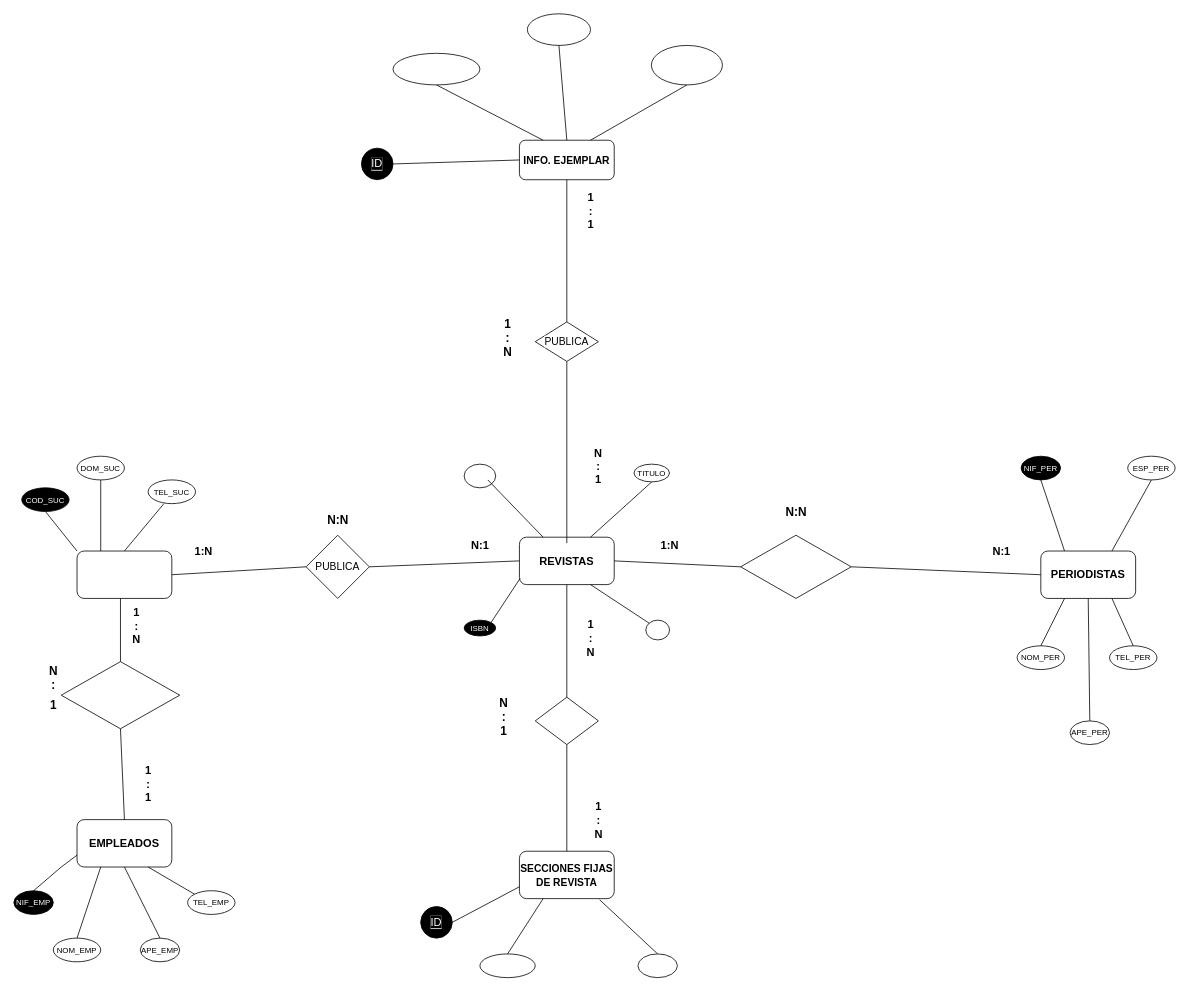
Image size: 1189x991. Some labels were removed from this diagram. Here are the shapes that lost their labels. From the top down, the centre of each, then its label:
At point 559,29: "NUM_PAG".
At point 436,69: "FECHA_EJEM".
At point 686,65: "VTAS_EJEM".
At point 479,475: "PERIOD".
At point 124,574: "SUCURSAL".
At point 795,566: "ESCRIBEN PARA".
At point 657,629: "TIPO".
At point 120,695: "TIENE / TRABAJAN".
At point 566,720: "TIENE".
At point 507,965: "TIT_SEC".
At point 657,965: "EXT.".
